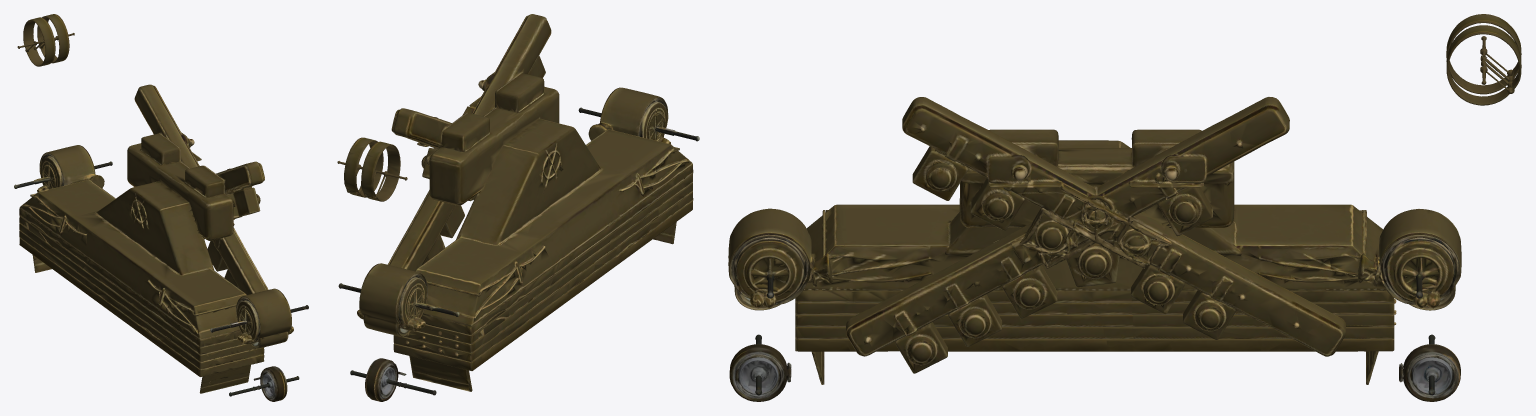
Rendered from engine-m279.glb.
The picture shows the model from 3 angles, left to right: view 1: azimuth 30°, elevation 25°; view 2: azimuth 150°, elevation 25°; view 3: azimuth 270°, elevation 25°; orthographic projection. The views are drawn at different scales.
Parts seen in each view (by area): view 1: tripo_node_08b86867-7da8-401a-bf74-3dcff8664f69; view 2: tripo_node_08b86867-7da8-401a-bf74-3dcff8664f69; view 3: tripo_node_08b86867-7da8-401a-bf74-3dcff8664f69.
Part boxes in pixels (x1,y1,x2,y2): tripo_node_08b86867-7da8-401a-bf74-3dcff8664f69: [14, 14, 308, 401]; tripo_node_08b86867-7da8-401a-bf74-3dcff8664f69: [337, 14, 699, 401]; tripo_node_08b86867-7da8-401a-bf74-3dcff8664f69: [728, 14, 1521, 401].
Size of the model in its own units: 0.5087 by 1 by 1.94.
Materials: 1 (1 with a texture image).
